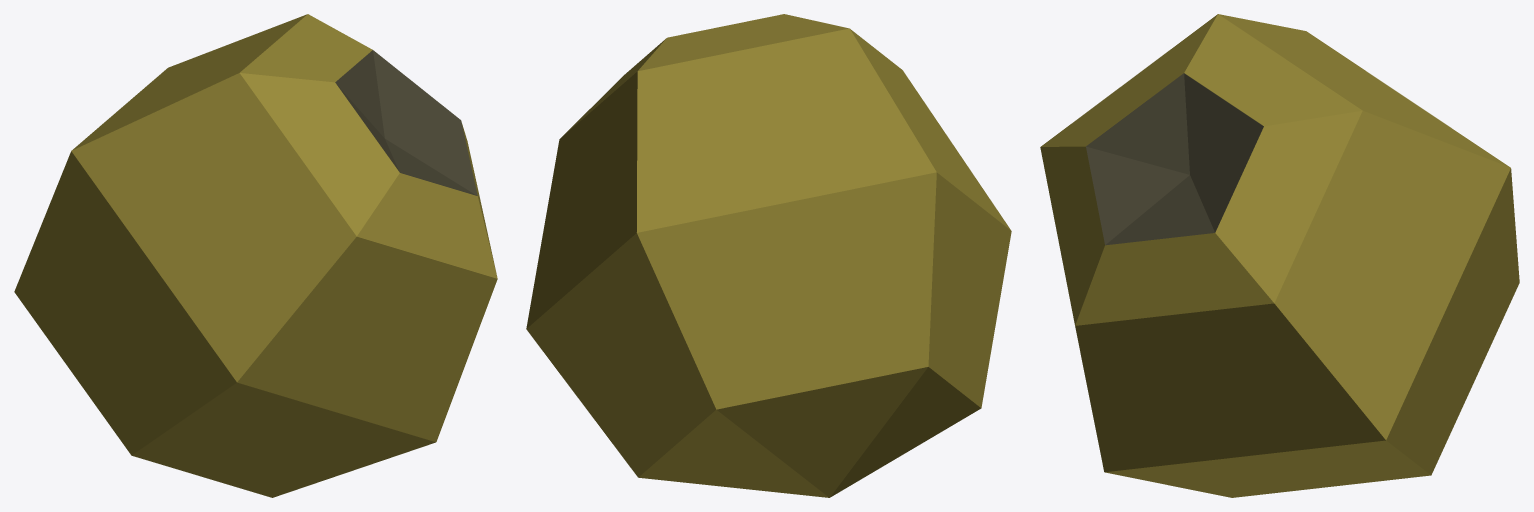
Rendered from 小米粟.FBX.
The picture shows the model from 3 angles, left to right: view 1: azimuth 30°, elevation 25°; view 2: azimuth 150°, elevation 25°; view 3: azimuth 270°, elevation 25°; orthographic projection. The views are drawn at different scales.
Parts seen in each view (by area): view 1: 小米粟; view 2: 小米粟; view 3: 小米粟.
Boxes of the visible parts, x1,y1,x2,y2 form: 小米粟: (14, 14, 497, 497); 小米粟: (526, 14, 1011, 497); 小米粟: (1040, 14, 1519, 497).
Size of the model in its own units: 0.5271 by 0.5117 by 0.5459.
